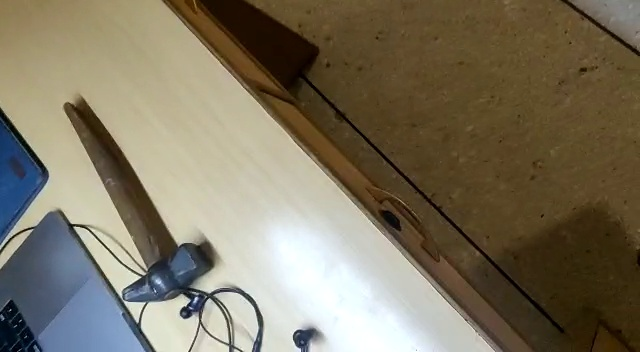hammer: (62, 100, 213, 306)
